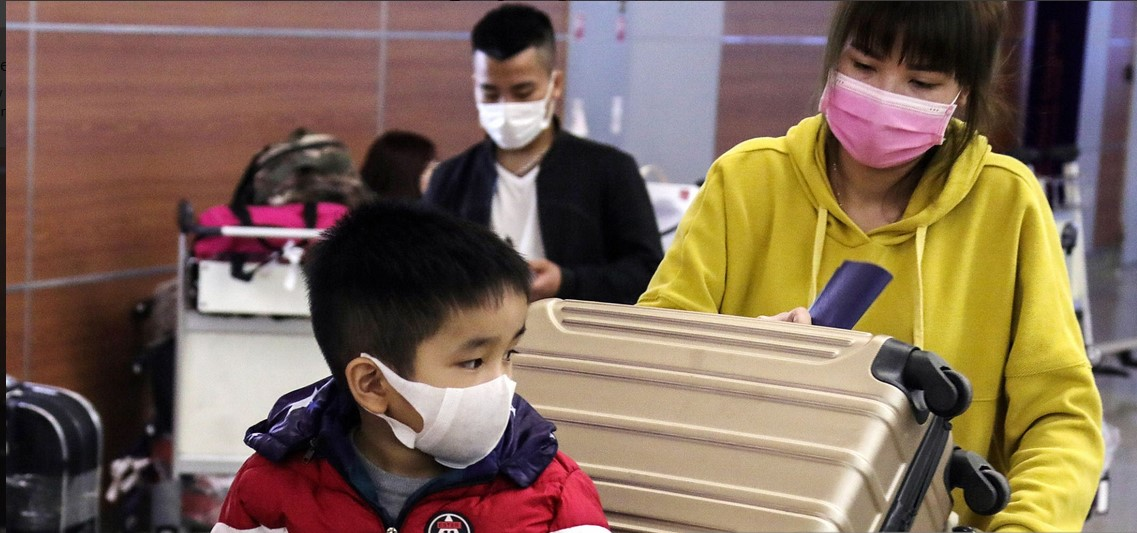face_with_mask: (333, 201, 535, 469), (812, 3, 982, 169), (464, 3, 560, 152)
